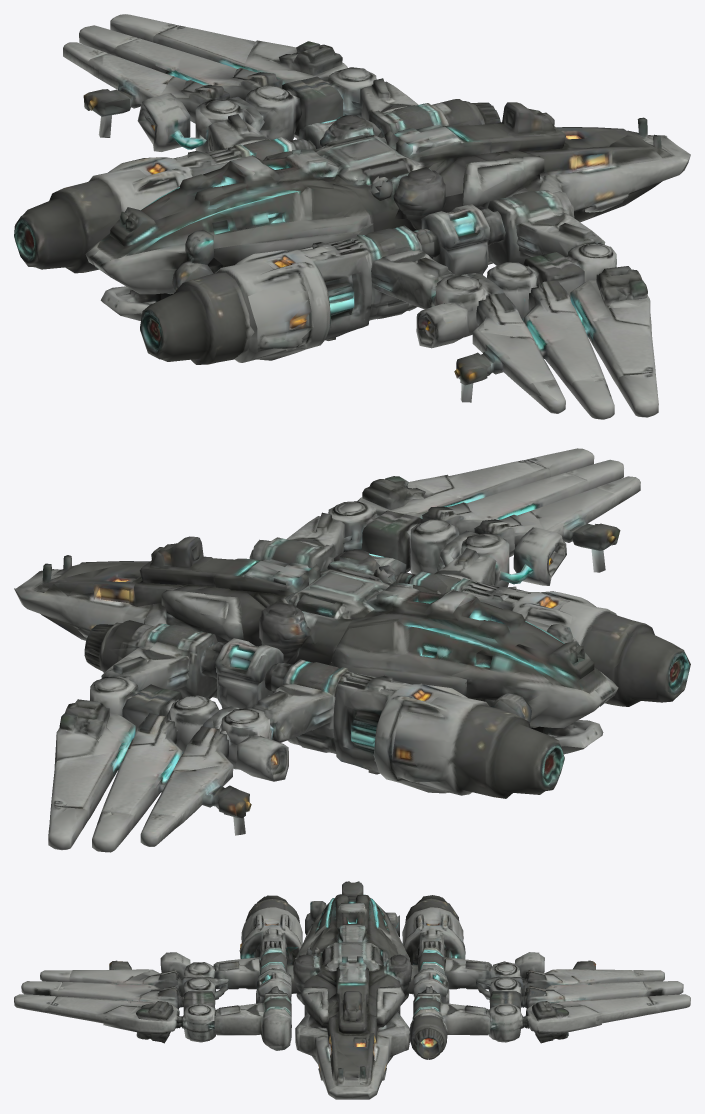
Rendered from Nave9.glb.
The picture shows the model from 3 angles, top to bottom: view 1: azimuth 30°, elevation 25°; view 2: azimuth 150°, elevation 25°; view 3: azimuth 270°, elevation 25°; orthographic projection. The views are drawn at different scales.
Parts seen in each view (by area): view 1: Ala Derecha, Fuselaje, Ala Izquierda; view 2: Ala Izquierda, Fuselaje, Ala Derecha; view 3: Ala Izquierda, Ala Derecha, Fuselaje.
Boxes of the visible parts, bbox=[...] form: Ala Derecha: bbox=[140, 190, 658, 419]; Fuselaje: bbox=[85, 102, 690, 320]; Ala Izquierda: bbox=[14, 14, 500, 273]; Ala Izquierda: bbox=[48, 620, 564, 852]; Fuselaje: bbox=[14, 536, 618, 754]; Ala Derecha: bbox=[249, 448, 690, 706]; Ala Izquierda: bbox=[402, 895, 690, 1059]; Ala Derecha: bbox=[14, 895, 302, 1050]; Fuselaje: bbox=[286, 881, 418, 1099].
Bounding box in the file's own units: 0.6285 × 0.1592 × 0.9792.
1 material, 1 textured.
